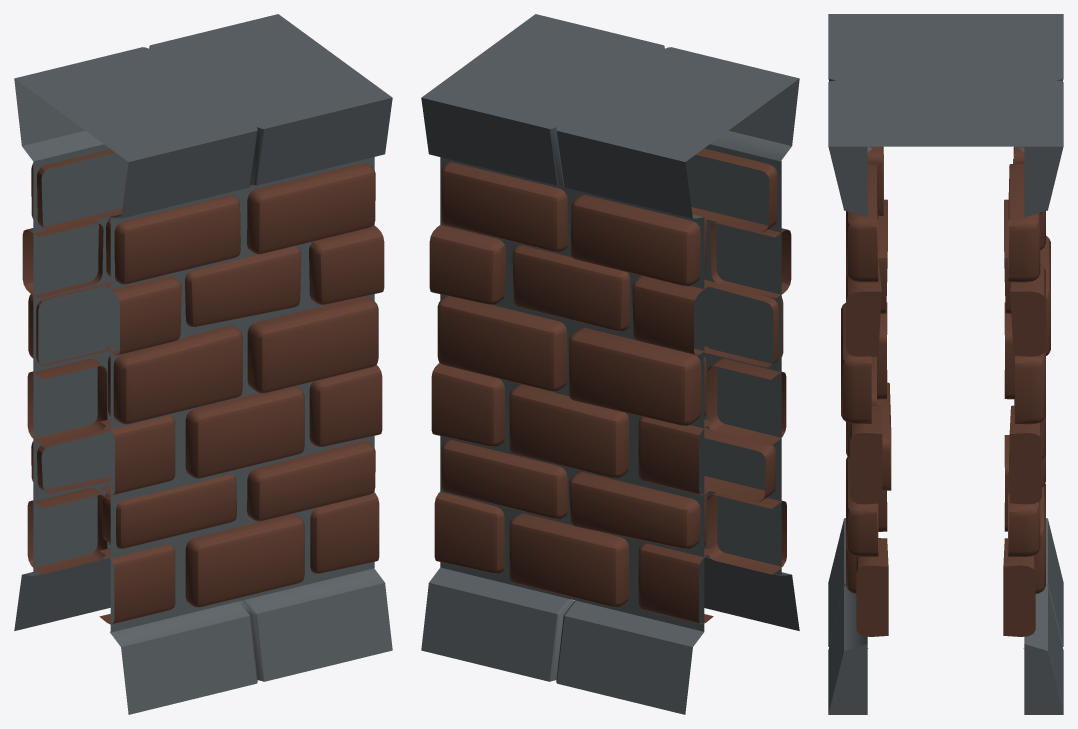
Rendered from wallOpt1Orange.fbx.
3 renders of one model, left to right at view 1: azimuth 30°, elevation 25°; view 2: azimuth 150°, elevation 25°; view 3: azimuth 270°, elevation 25°, orthographic. The views are drawn at different scales.
Parts seen in each view (by area): view 1: wall; view 2: wall; view 3: wall.
Boxes of the visible parts, x1=… form: wall: x1=14, y1=14, x2=392, y2=714; wall: x1=421, y1=14, x2=799, y2=714; wall: x1=828, y1=14, x2=1063, y2=714.
Size of the model in its own units: 201 by 400 by 150.
